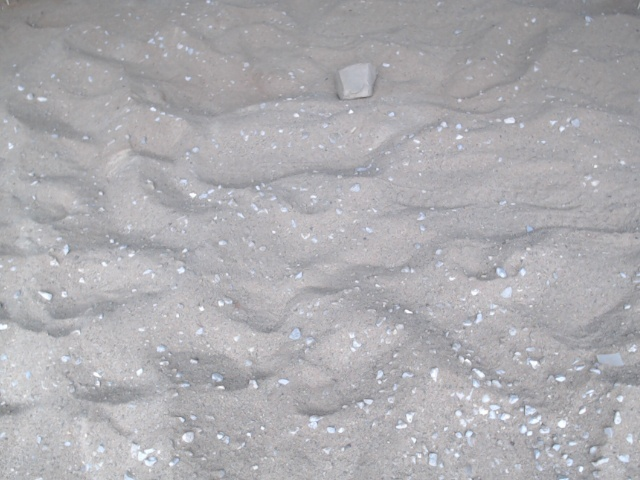rock: (329, 56, 381, 105)
